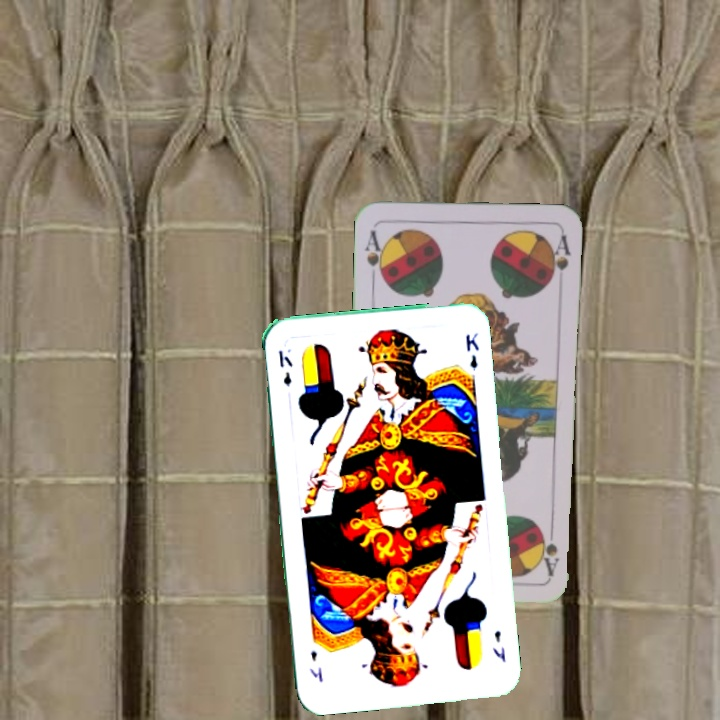EK: (274, 346, 295, 389), (489, 626, 508, 665)
SA: (361, 227, 388, 283), (538, 519, 561, 578)
